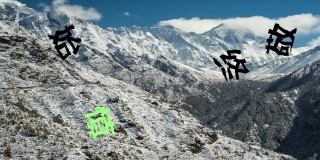始: (47, 24, 82, 60)
慎: (84, 105, 115, 139)
敬: (265, 22, 296, 57)
终: (213, 49, 250, 82)
